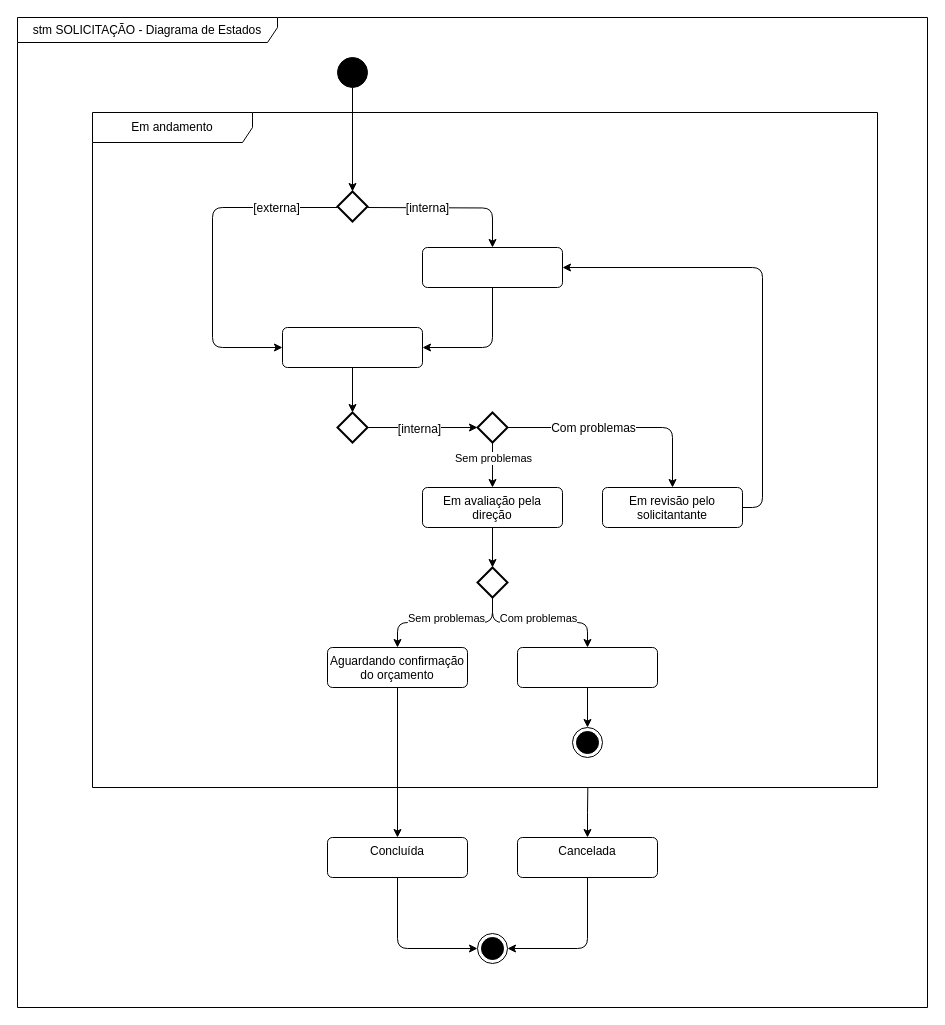
This 945x1025 diagram has some shape labels left out. The centre of each missing label's shape, as x and y in pixels:
"Aguardando confirmação do orientador" belongs at (x=492, y=267).
"Em avaliação técnica" belongs at (x=352, y=347).
"Reprovada" belongs at (x=587, y=667).
